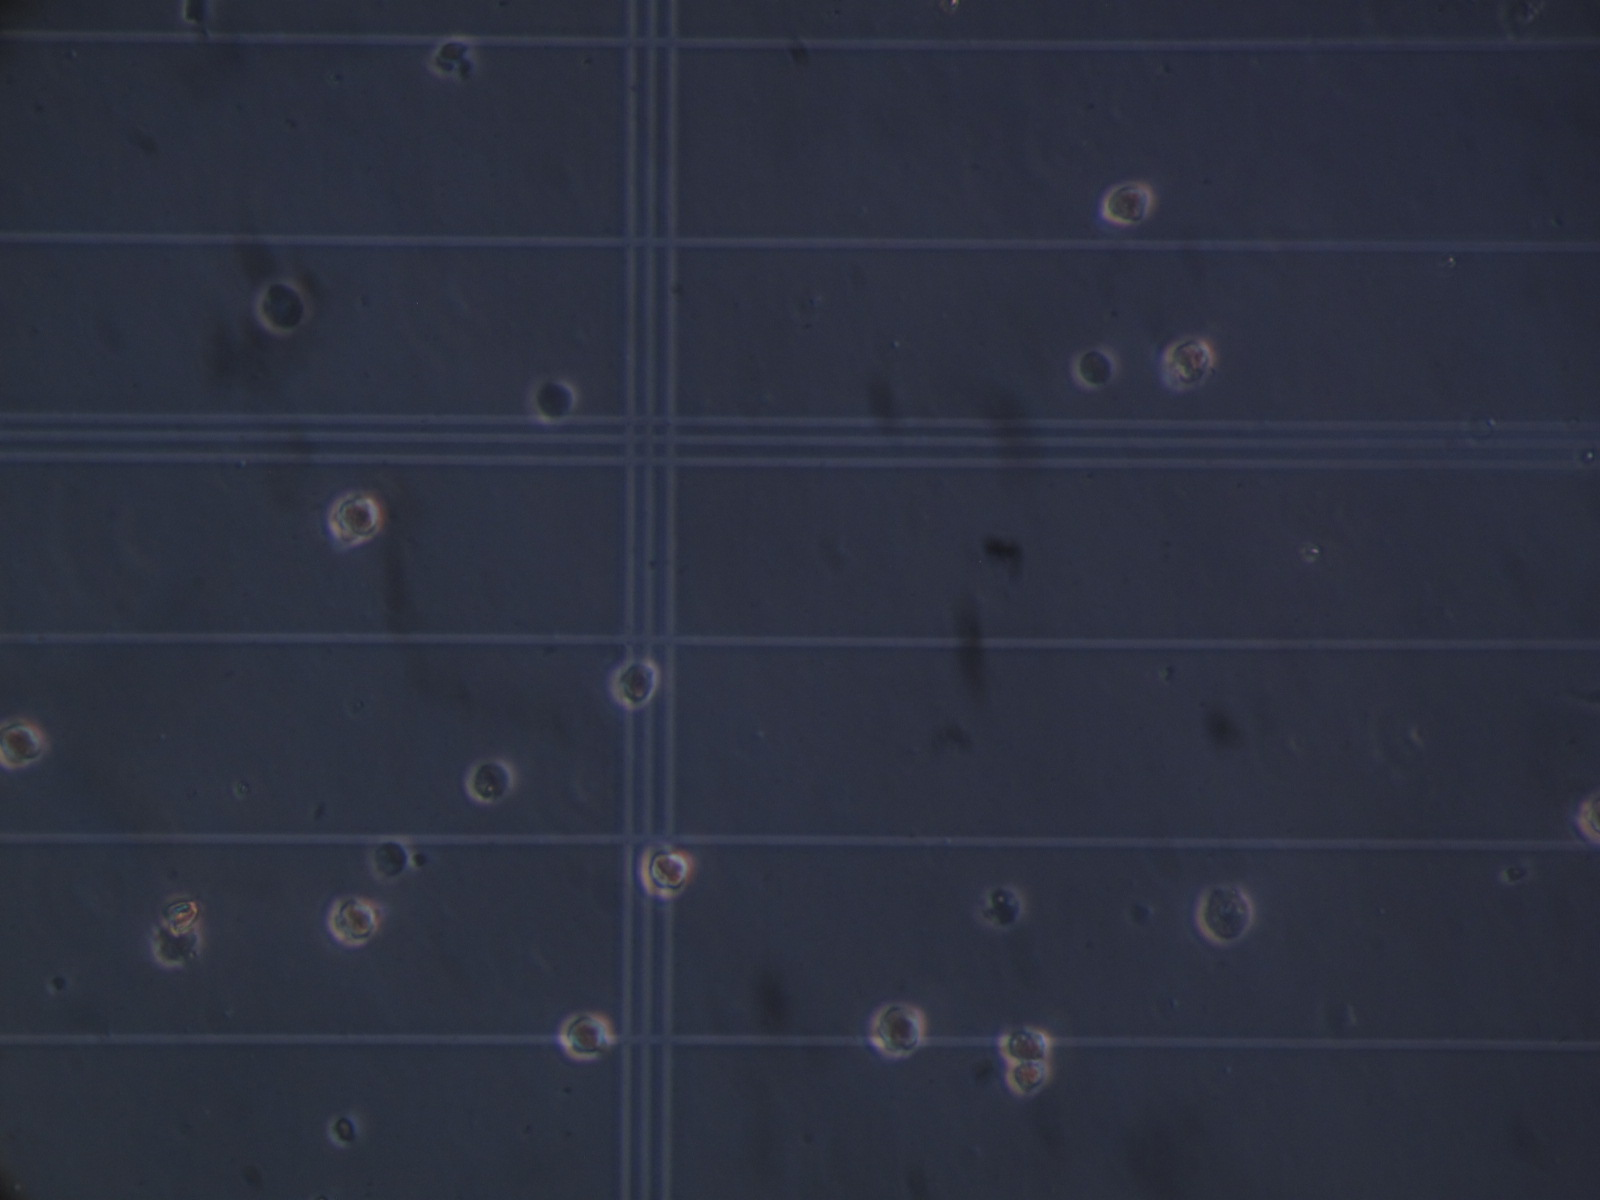hemo: (1197, 885, 1256, 944), (256, 277, 311, 334), (871, 1005, 929, 1058), (640, 842, 689, 901), (1163, 335, 1213, 389), (558, 1013, 616, 1060), (328, 896, 379, 947), (330, 492, 382, 542), (611, 658, 659, 710), (367, 832, 414, 884), (1, 717, 47, 770), (529, 376, 576, 425), (466, 758, 517, 803), (1102, 182, 1154, 224), (998, 1025, 1054, 1063), (983, 884, 1026, 929), (1075, 345, 1117, 388), (1007, 1059, 1051, 1095)
